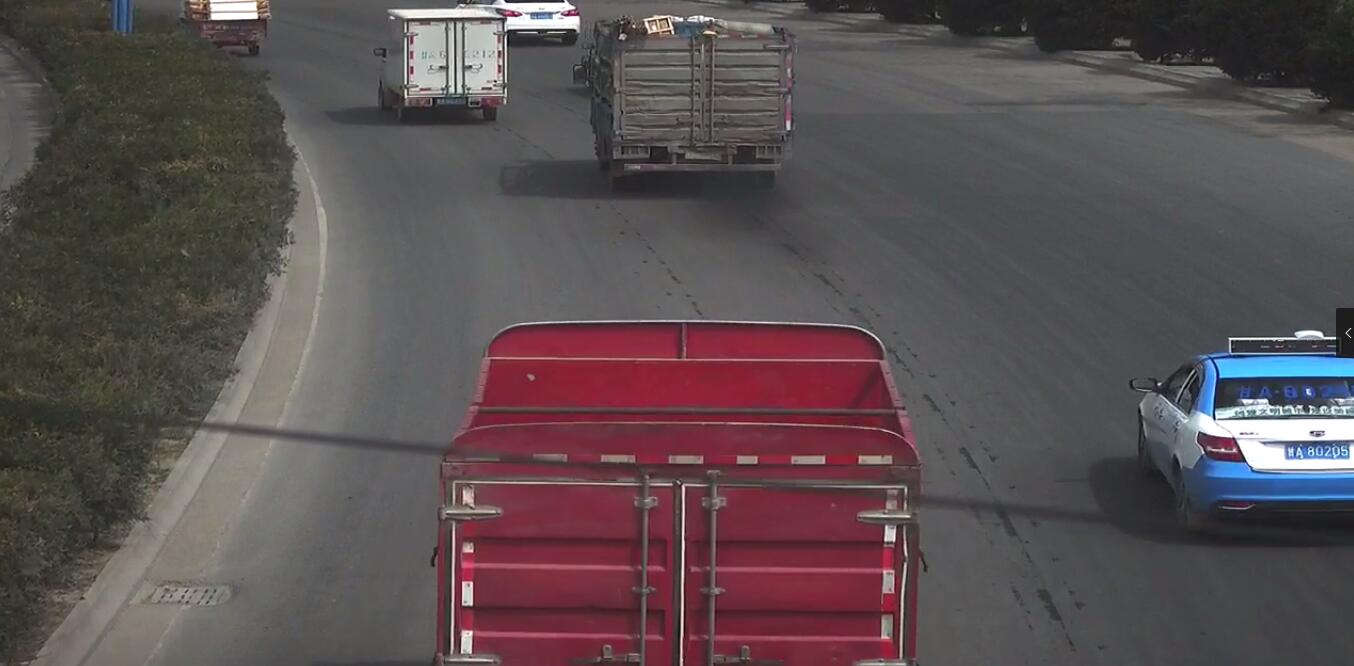yanwu: (692, 162, 804, 234)
